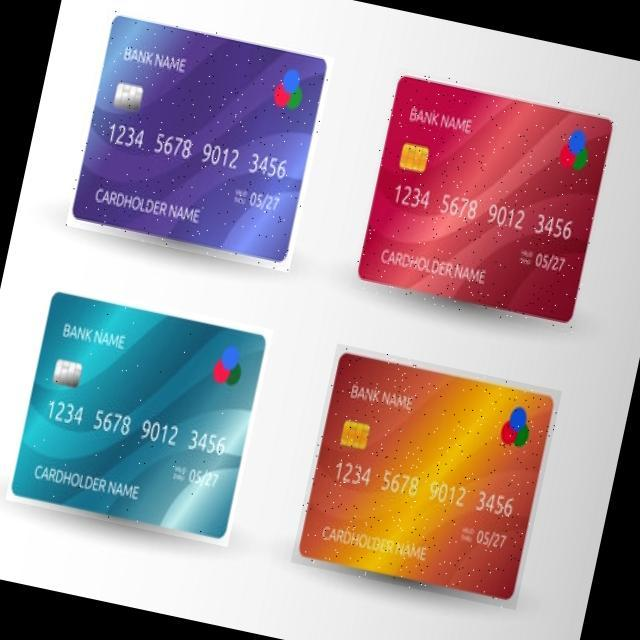payment_card: (291, 344, 561, 607), (7, 290, 272, 548), (356, 73, 613, 326)
